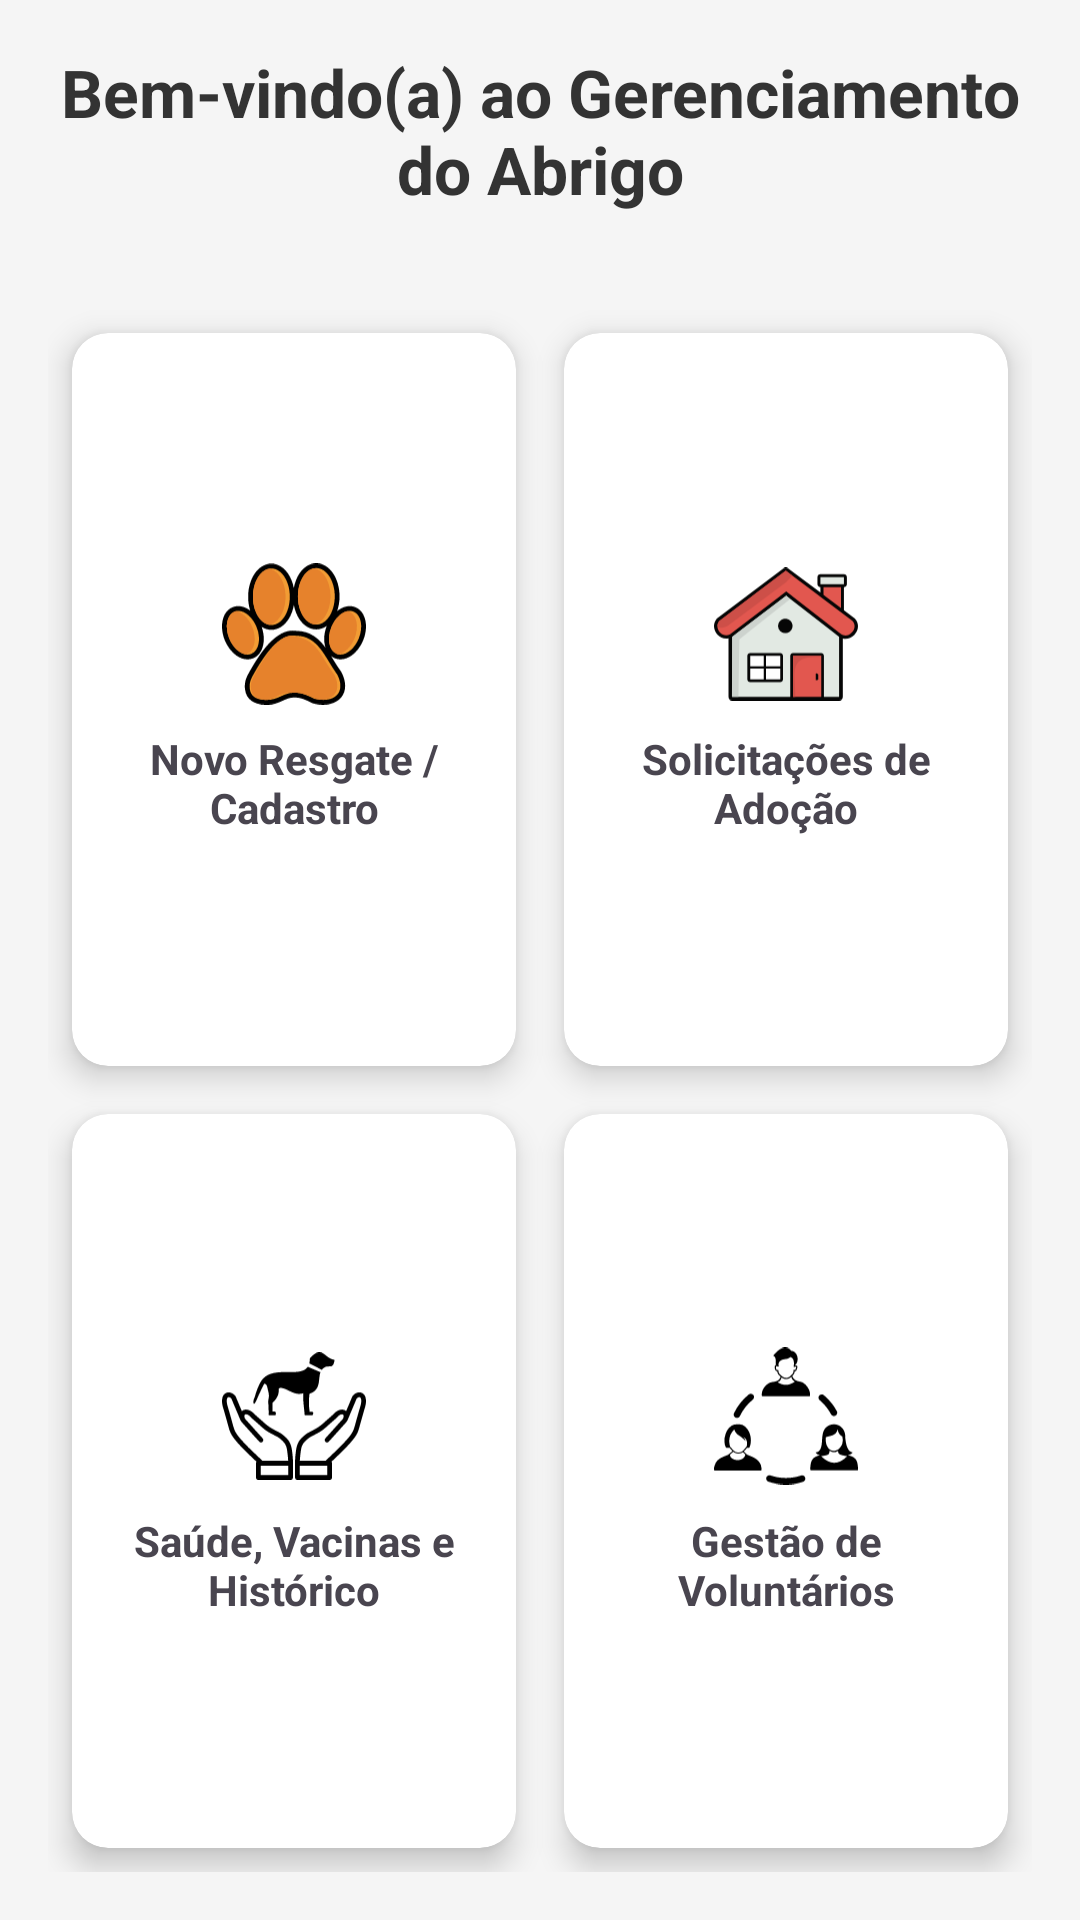

Where icons sit on this 1080w x 1920h app screen, as region(x1, y1, x2, y2):
Ícone de adicionar animal: region(222, 563, 366, 705)
Ícone de adoção: region(714, 567, 858, 701)
Ícone de voluntários: region(714, 1347, 858, 1485)
